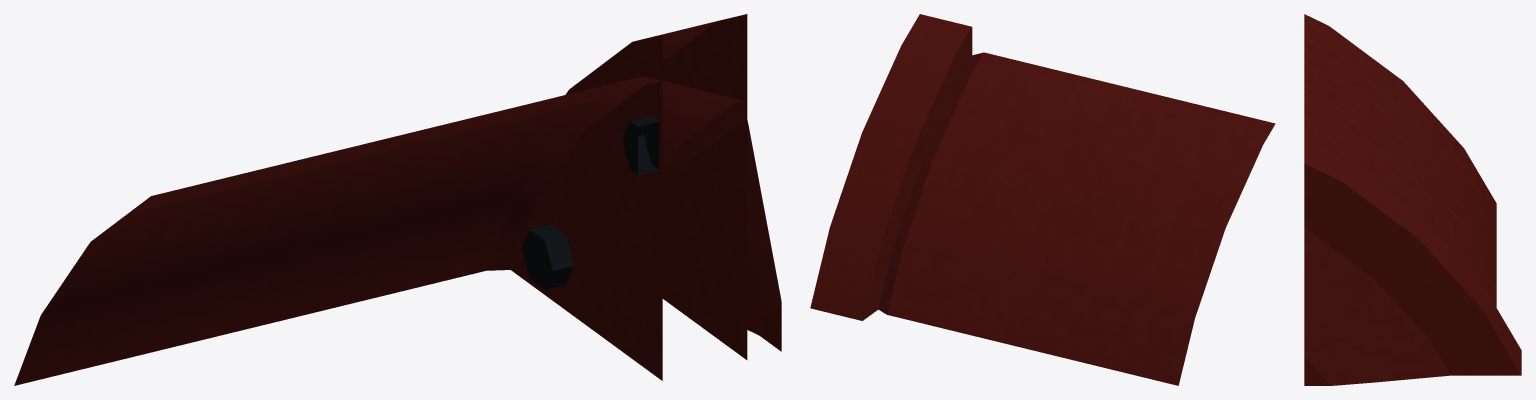
Rendered from cell_50.obj.
3 views of the same model, side by side, from view 1: azimuth 30°, elevation 25°; view 2: azimuth 150°, elevation 25°; view 3: azimuth 270°, elevation 25° (orthographic). The views are drawn at different scales.
Visible parts, largest first — view 1: cell_50; view 2: cell_50; view 3: cell_50.
Part boxes in pixels (left/top/right/bottom): cell_50: left=14, top=14, right=781, bottom=385; cell_50: left=810, top=14, right=1275, bottom=385; cell_50: left=1304, top=14, right=1521, bottom=385.
Size of the model in its own units: 0.8725 by 0.4732 by 0.4392.
